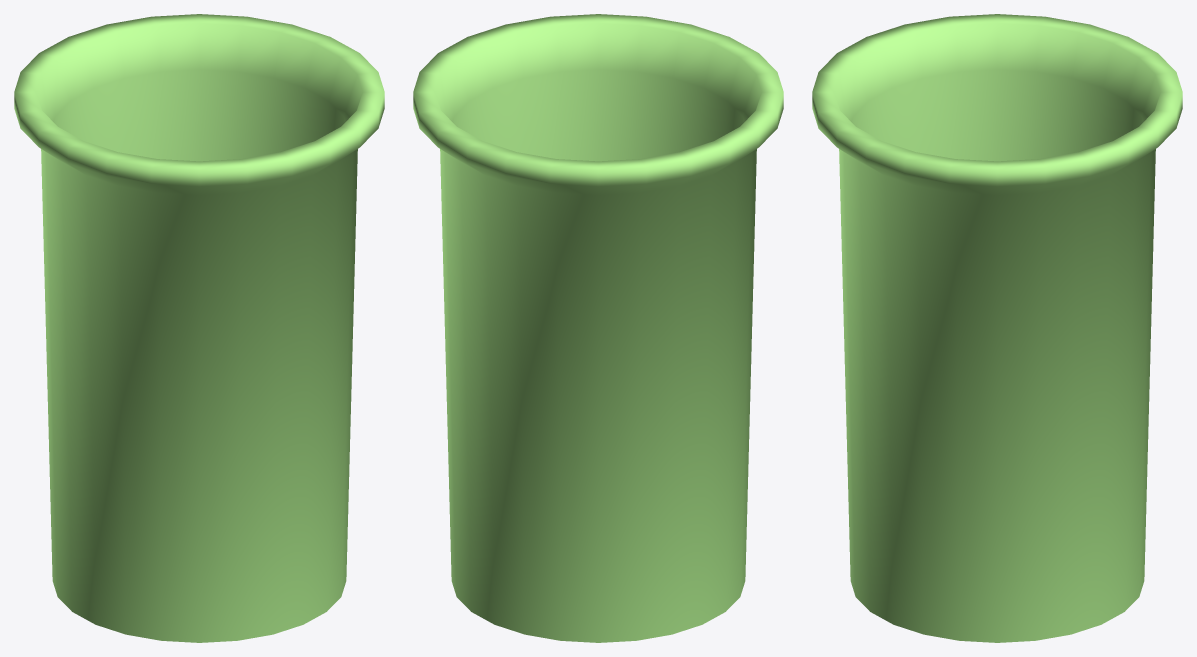
File: Street_TrashCan_COL.FBX
3 views of the same model, side by side, from view 1: azimuth 30°, elevation 25°; view 2: azimuth 150°, elevation 25°; view 3: azimuth 270°, elevation 25° (orthographic).
Parts seen in each view (by area): view 1: Street_TrashCan_COL; view 2: Street_TrashCan_COL; view 3: Street_TrashCan_COL.
Part boxes in pixels (left/top/right/bottom): Street_TrashCan_COL: left=14, top=14, right=384, bottom=642; Street_TrashCan_COL: left=413, top=14, right=783, bottom=642; Street_TrashCan_COL: left=812, top=14, right=1182, bottom=642.
Bounding box in the file's own units: 62.52 × 90.93 × 62.52.
